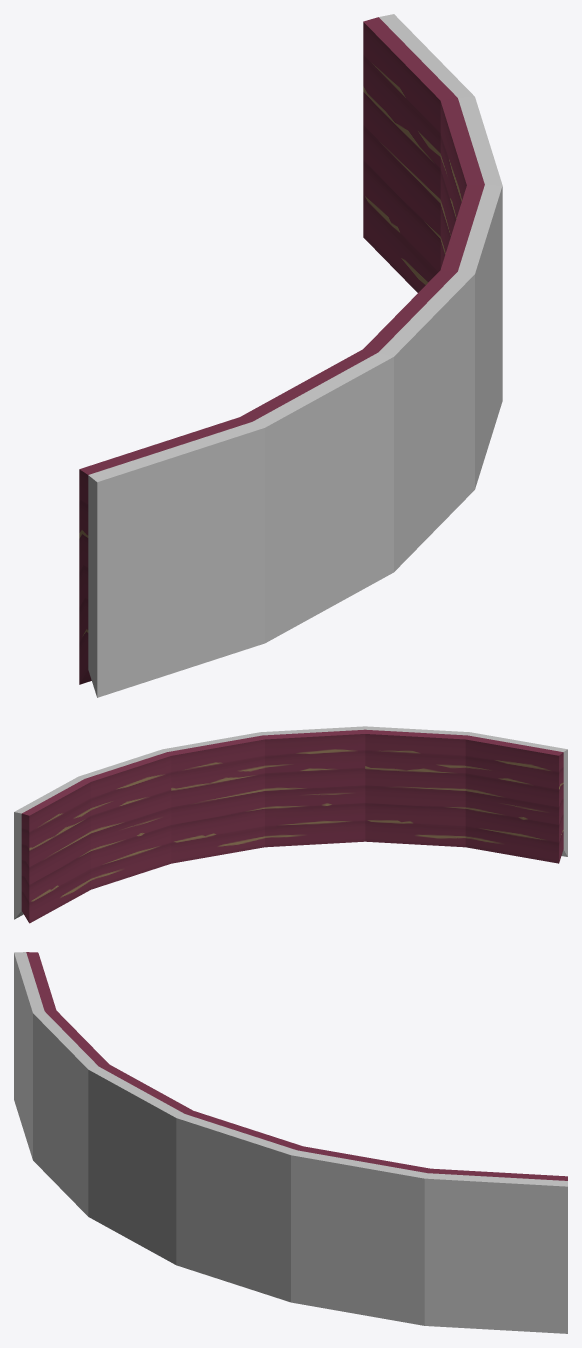
Rendered from SM_Bld_Wall_Curved_L_Half_01.fbx.
3 views of the same model, one above another, from view 1: azimuth 30°, elevation 25°; view 2: azimuth 150°, elevation 25°; view 3: azimuth 270°, elevation 25° (orthographic). The views are drawn at different scales.
Parts seen in each view (by area): view 1: SM_Bld_Wall_Curved_L_Half_01; view 2: SM_Bld_Wall_Curved_L_Half_01; view 3: SM_Bld_Wall_Curved_L_Half_01.
Part boxes in pixels (x1,y1,x2,y2): SM_Bld_Wall_Curved_L_Half_01: (79,14,502,697); SM_Bld_Wall_Curved_L_Half_01: (14,726,567,923); SM_Bld_Wall_Curved_L_Half_01: (14,952,567,1333).
Size of the model in its own units: 511 by 150 by 511.
